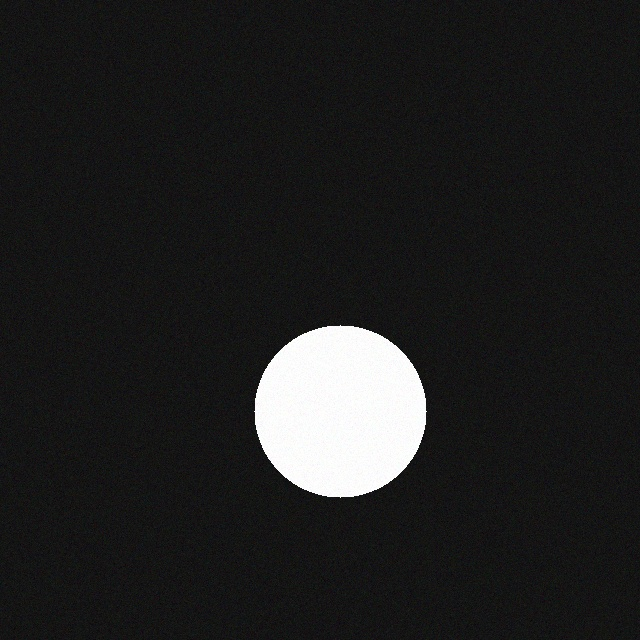circle: (267, 337, 439, 509)
